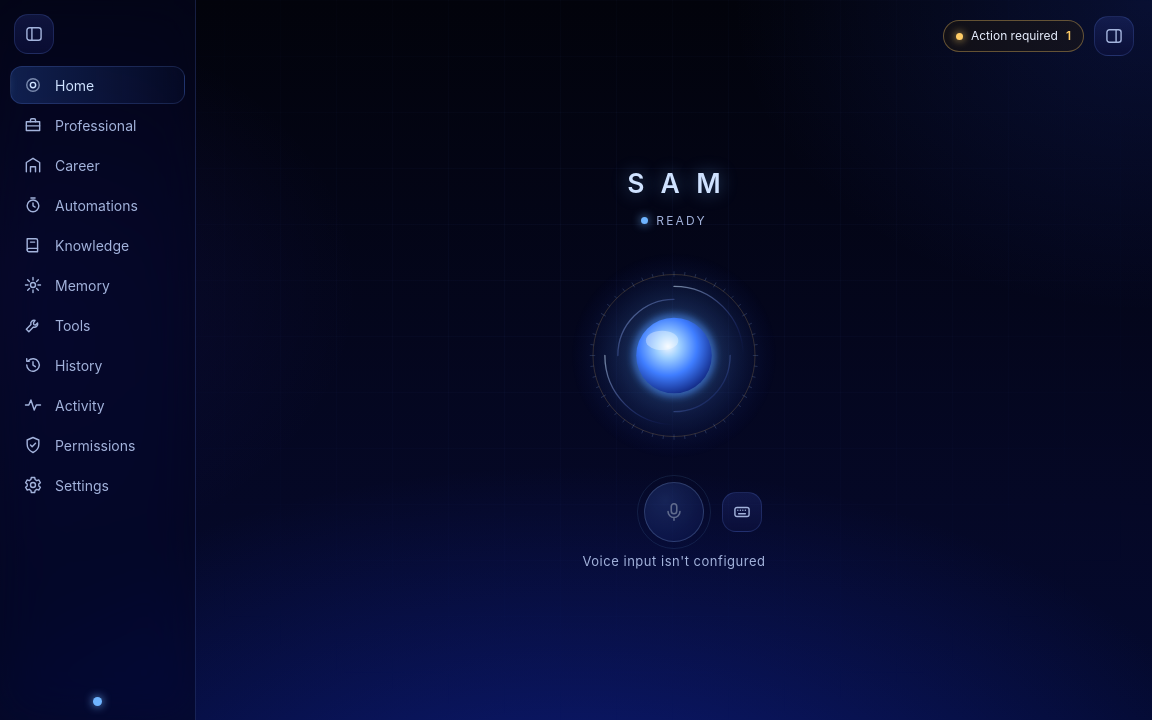
Scenario: Automations view › shows each task's type, schedule, timezone, next and last run, and state
expect the message named "Connection: Connected" is shown: met, box [93, 697, 102, 706]
Step 1. Click the button "Automations" → {"x": 98, "y": 205}, box [10, 186, 185, 224]
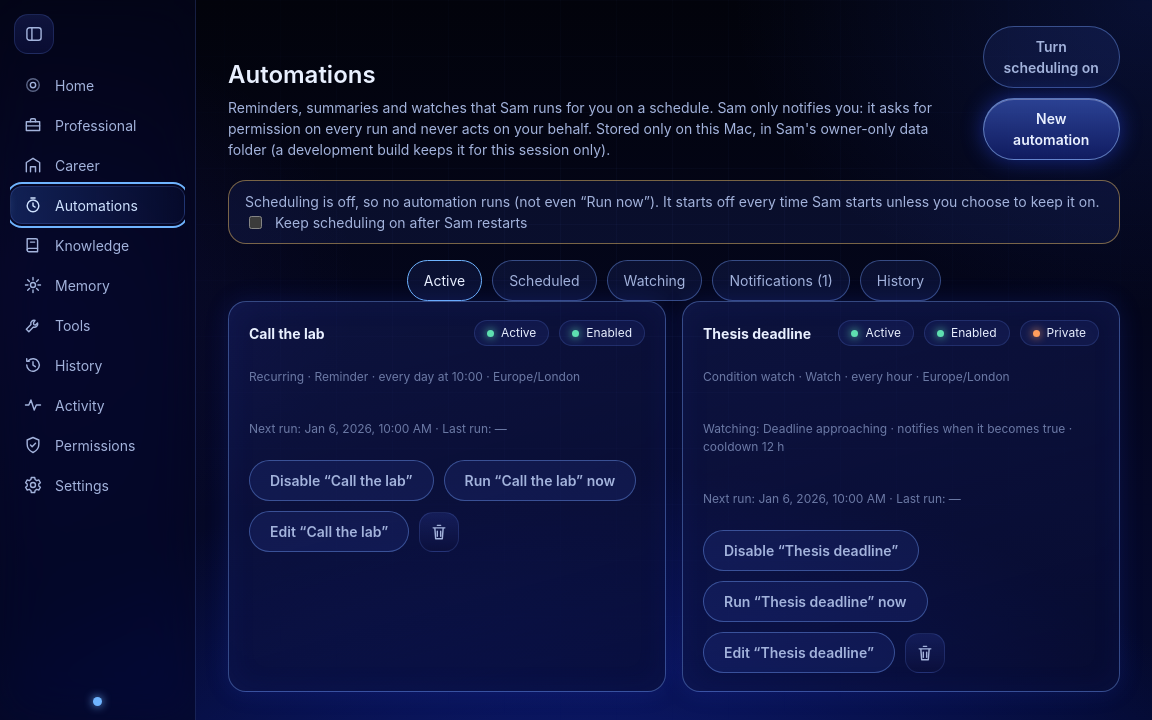
expect the heading "Automations" is shown: met, box [228, 60, 376, 89]
expect the text "Recurring · Reminder · every day at 10:00 · Europe/London" is shown: met, box [249, 369, 580, 384]
expect the text "Next run: Jan 6, 2026, 10:00 AM · Last run: —" below "Recurring" is shown: met, box [249, 421, 304, 436]
